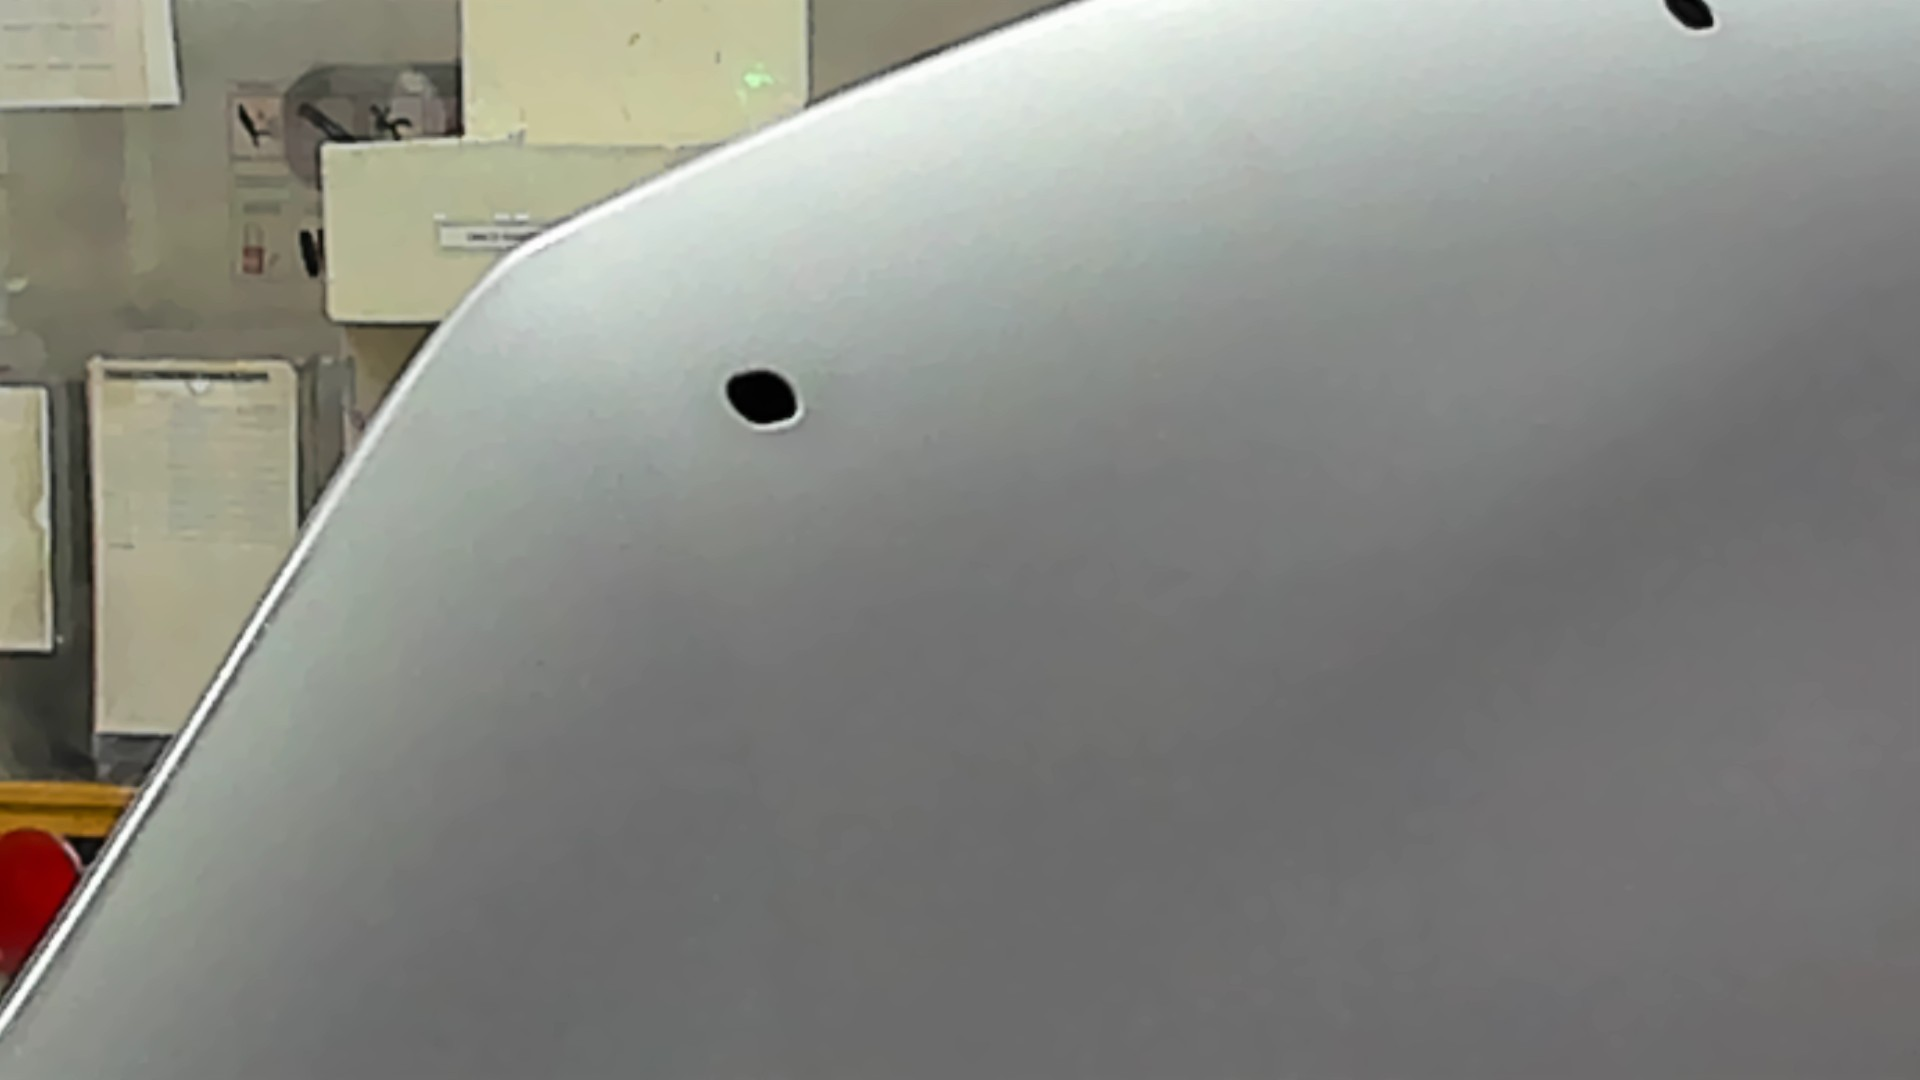chico: (705, 355, 822, 440), (1652, 1, 1731, 42)
